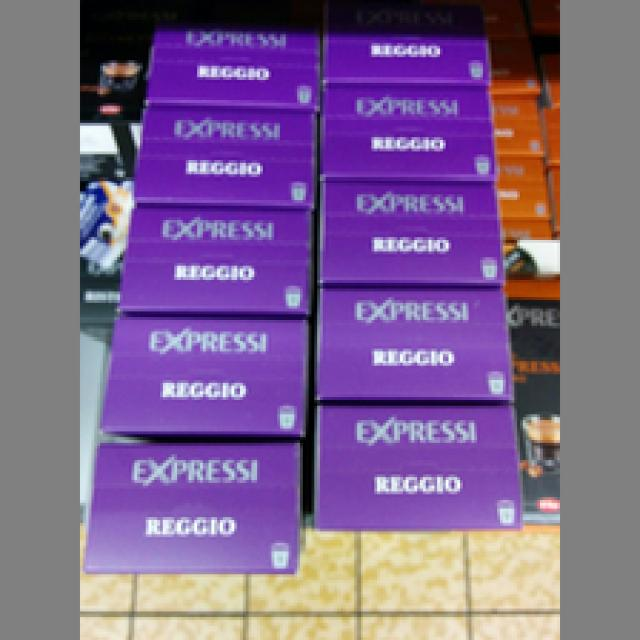groceries: (80, 434, 300, 577), (306, 400, 526, 531), (92, 312, 308, 434), (309, 280, 517, 403), (114, 197, 314, 312), (317, 174, 503, 289), (129, 103, 317, 203), (314, 80, 494, 180), (143, 23, 320, 108), (320, 6, 491, 83)
